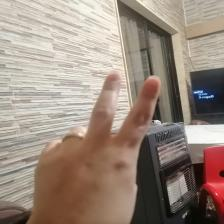two: (50, 68, 163, 222)
